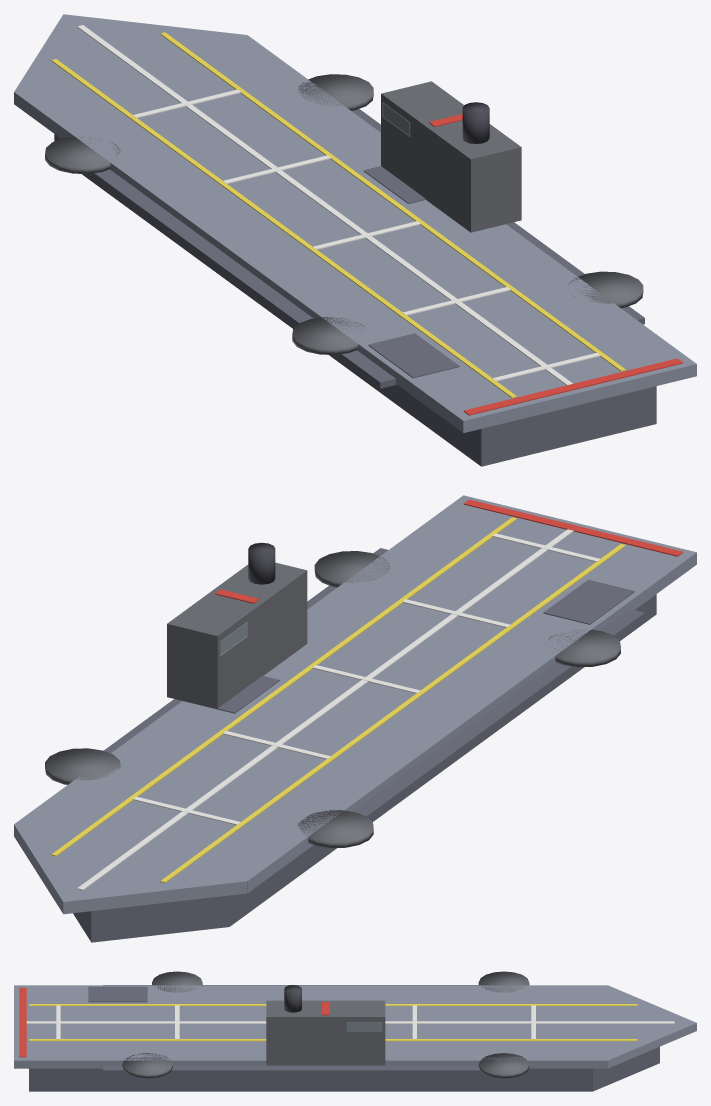
File: carrier.gltf
3 renders of one model, top to bottom at view 1: azimuth 30°, elevation 25°; view 2: azimuth 150°, elevation 25°; view 3: azimuth 270°, elevation 25°, orthographic. The views are drawn at different scales.
Parts seen in each view (by area): view 1: carrier; view 2: carrier; view 3: carrier.
Boxes of the visible parts, x1,y1,x2,y2 form: carrier: (14,14,696,466); carrier: (14,495,696,942); carrier: (14,971,696,1091).
Size of the model in its own units: 16.4 by 8.1 by 46.
